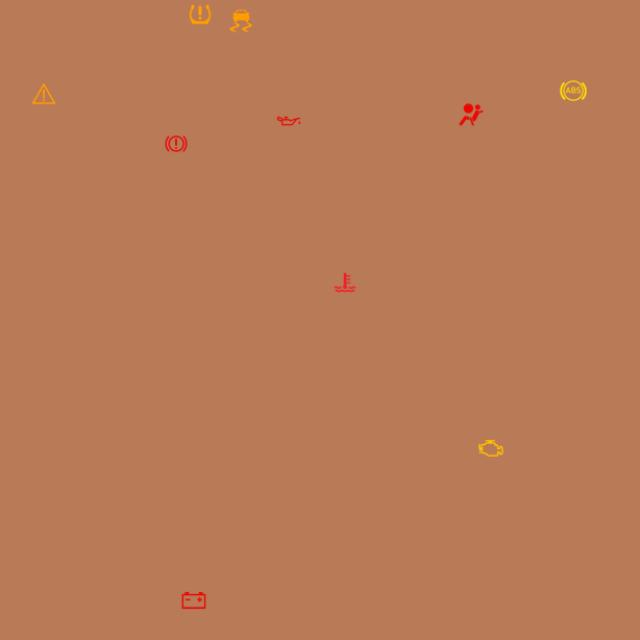Anti Lock Braking System: (559, 76, 588, 105)
Braking System Issue: (162, 130, 190, 158)
Charging System Issue: (180, 586, 208, 615)
Check Engine: (476, 433, 506, 462)
Electronic Stability Problem -ESP-: (227, 7, 256, 36)
Engine Overheating Warning Light: (330, 268, 360, 297)
Low Engine Oil Warning Light: (274, 106, 303, 136)
Low Tire Pressure Warning Light: (186, 0, 214, 29)
Master warning light: (30, 80, 59, 108)
SRS-Airbag: (456, 100, 486, 129)
